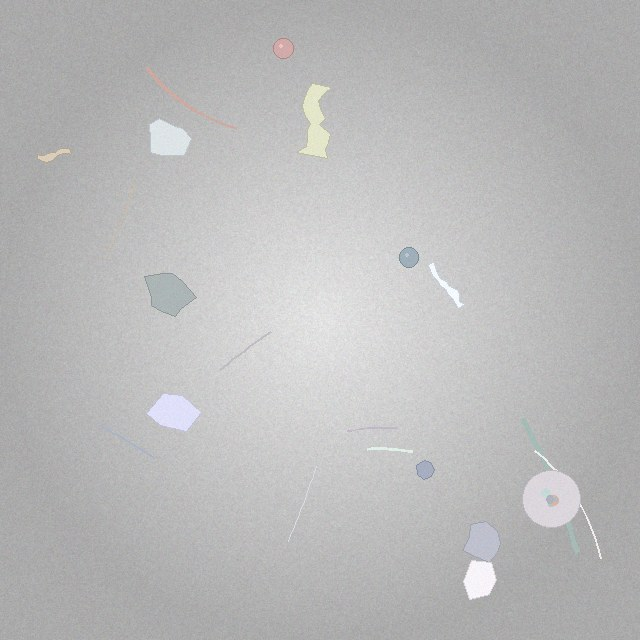fiber: (517, 413, 583, 558), (532, 448, 603, 561), (143, 64, 240, 132), (102, 181, 136, 260), (286, 465, 318, 544), (216, 330, 273, 374), (93, 421, 156, 460), (345, 425, 399, 435), (364, 445, 416, 455)
film: (297, 84, 331, 158), (428, 262, 465, 309), (37, 148, 71, 162)
foam: (523, 471, 580, 528)
fragment: (145, 273, 196, 317), (147, 393, 201, 432), (150, 118, 191, 156), (463, 522, 500, 562), (464, 560, 497, 600), (417, 461, 434, 480)
pellet: (399, 248, 419, 267), (274, 39, 293, 58)
